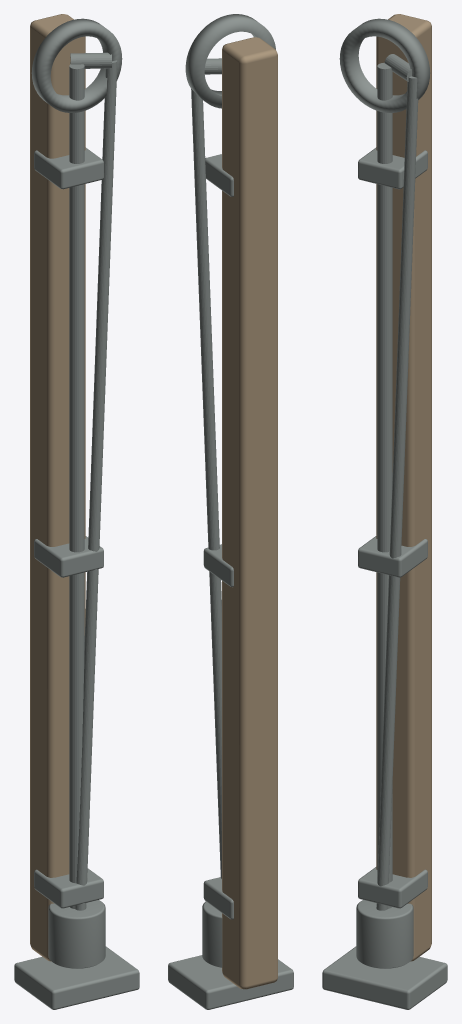
File: coastal-saltworks-and-trade-port-coastal-saltworks-and-d68e8d86__31376.glb
3 views of the same model, side by side, from view 1: azimuth 30°, elevation 25°; view 2: azimuth 210°, elevation 25°; view 3: azimuth 330°, elevation 25° (orthographic).
Parts seen in each view (by area): view 1: coastal-saltworks-and-trade-port-pump-drive-linkage; view 2: coastal-saltworks-and-trade-port-pump-drive-linkage; view 3: coastal-saltworks-and-trade-port-pump-drive-linkage.
Boxes of the visible parts, box(x1,y1,x2,y2) form: coastal-saltworks-and-trade-port-pump-drive-linkage: box(14, 14, 139, 1009); coastal-saltworks-and-trade-port-pump-drive-linkage: box(168, 14, 293, 1009); coastal-saltworks-and-trade-port-pump-drive-linkage: box(322, 14, 447, 1009).
Size of the model in its own units: 0.3198 by 3.35 by 0.315.
